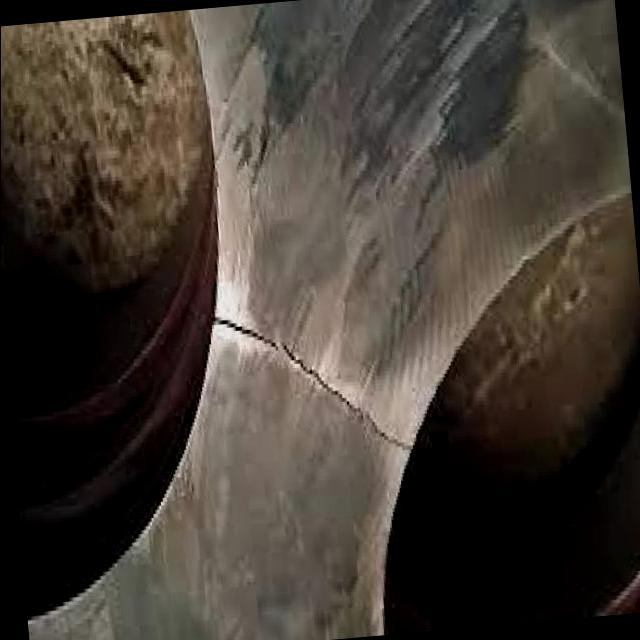defect: (206, 311, 416, 453)
